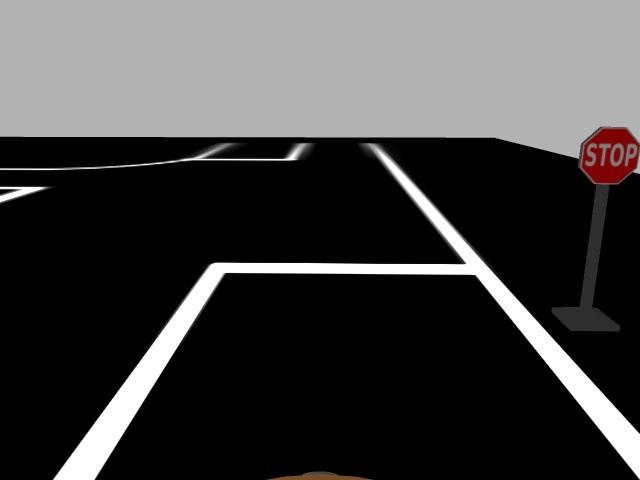stop: (577, 122, 640, 189)
